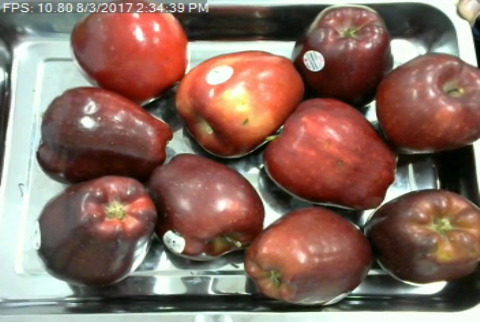Apple: (261, 93, 400, 213), (172, 48, 307, 161), (34, 82, 176, 188), (32, 171, 159, 285), (147, 149, 268, 264), (242, 205, 375, 308), (68, 0, 189, 104), (370, 49, 480, 157), (364, 186, 480, 287), (291, 3, 395, 107)
